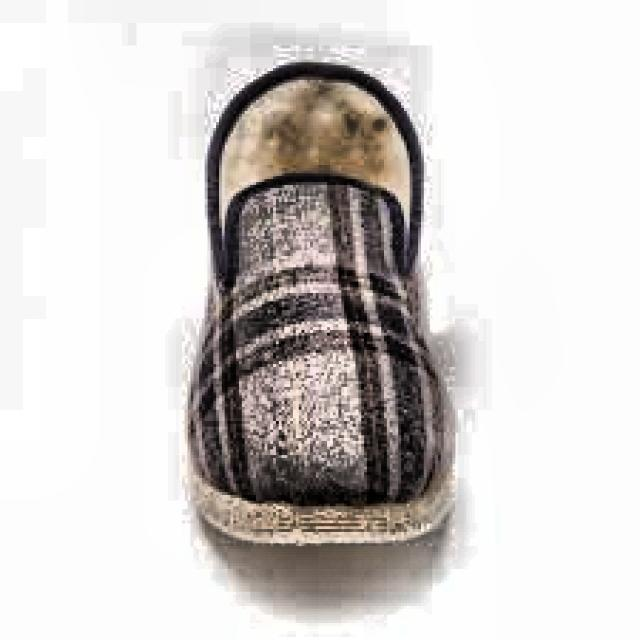shoes: (185, 57, 459, 553)
